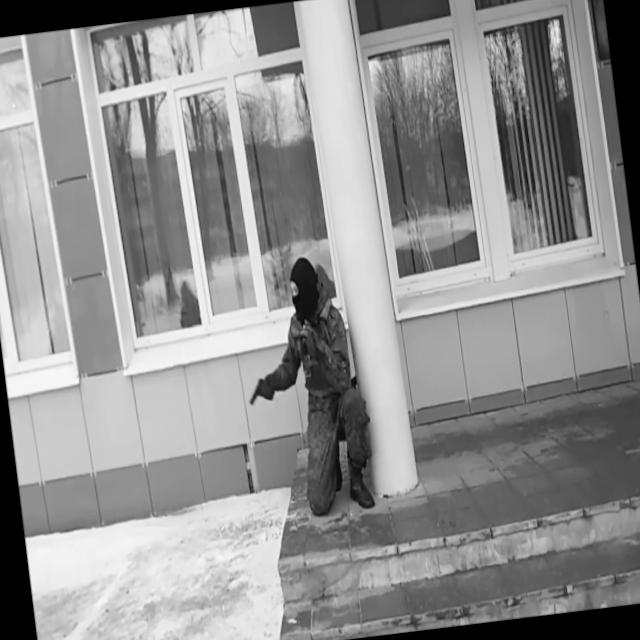gun: (289, 309, 348, 380), (246, 375, 276, 406)
person with a gun: (232, 250, 381, 522)
